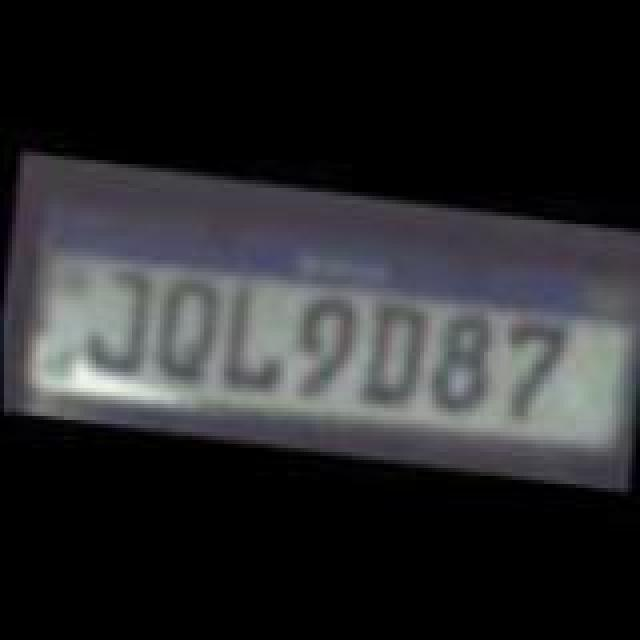7: (494, 314, 566, 422)
8: (420, 306, 496, 422)
9: (290, 290, 362, 402)
D: (356, 294, 440, 418)
J: (74, 262, 154, 378)
L: (212, 278, 296, 394)
Q: (142, 274, 230, 390)
